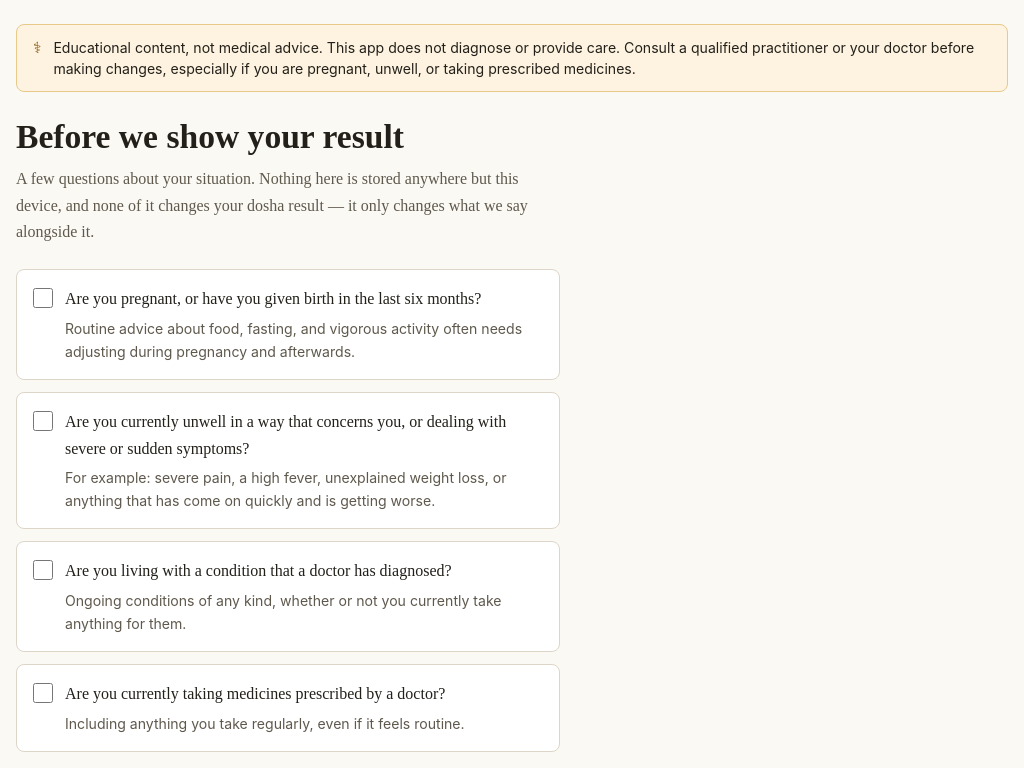
every red flag surfaces professional-care guidance before results › pregnancy
Click the 1st checkbox at {"x": 43, "y": 298}, box [33, 288, 53, 308]
(page scrolled)
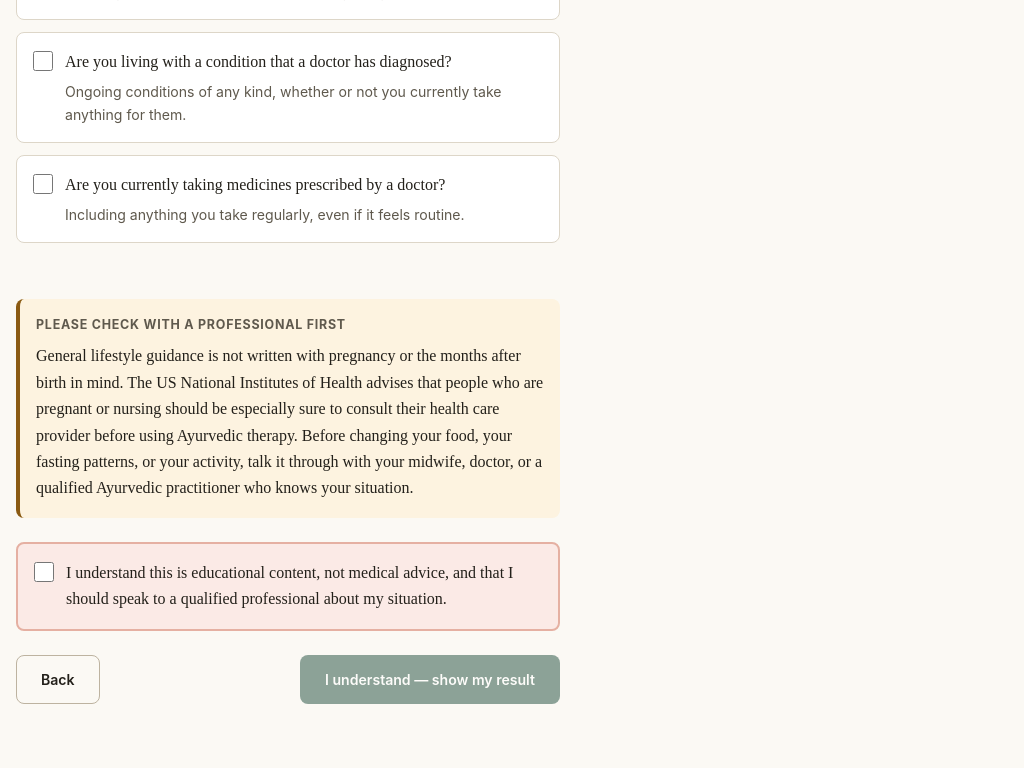
Result: the element with test id "red-flag-messages" is shown at [16, 299, 560, 518]
Result: the element with test id "red-flag-messages" shows "Please check with a professional first" at [36, 317, 346, 332]
